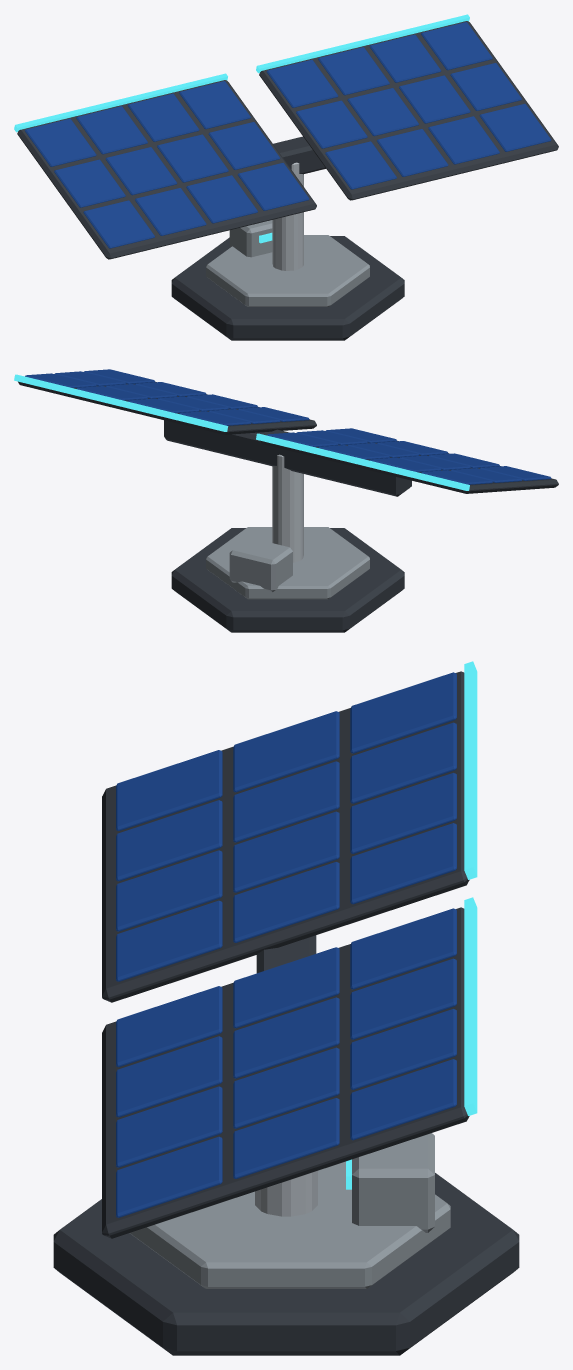
The model's file is exo-solar.glb.
3 renders of one model, top to bottom at view 1: azimuth 30°, elevation 25°; view 2: azimuth 150°, elevation 25°; view 3: azimuth 270°, elevation 25°, orthographic. The views are drawn at different scales.
Visible parts, largest first — view 1: body; view 2: body; view 3: body.
Part boxes in pixels (box(x1,y1,x2,y2)): body: box(14, 14, 558, 340); body: box(14, 369, 558, 632); body: box(53, 661, 519, 1355).
Bounding box in the file's own units: 8.8 × 3.63 × 3.92.
